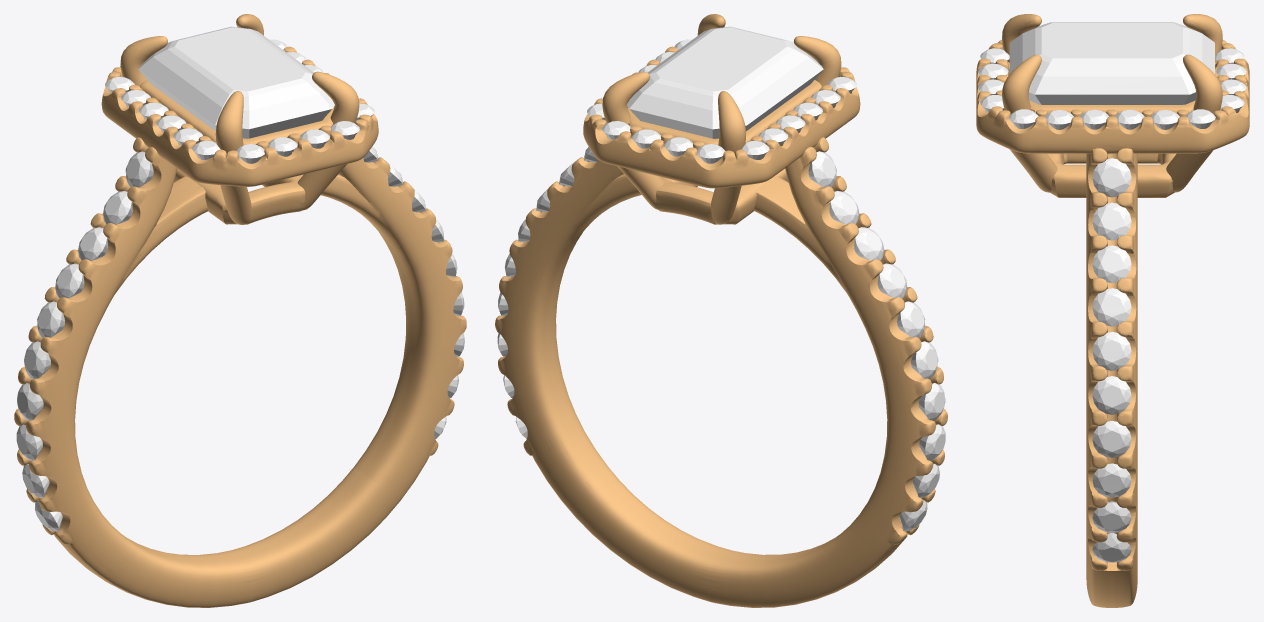
3 views of the same model, side by side, from view 1: azimuth 30°, elevation 25°; view 2: azimuth 150°, elevation 25°; view 3: azimuth 270°, elevation 25° (orthographic).
Parts seen in each view (by area): view 1: object 1, PART0001 (×9); view 2: object 1, PART0001 (×9); view 3: object 1, PART0001 (×17).
Part boxes in pixels (bbox=[...]): object 1: bbox=[14, 14, 466, 607]; PART0001 (×9): bbox=[16, 26, 334, 460]; object 1: bbox=[495, 14, 947, 607]; PART0001 (×9): bbox=[627, 26, 945, 460]; object 1: bbox=[976, 14, 1249, 607]; PART0001 (×17): bbox=[1009, 22, 1215, 562].
Bounding box in the file's own units: 2.44 × 2.89 × 1.3.
